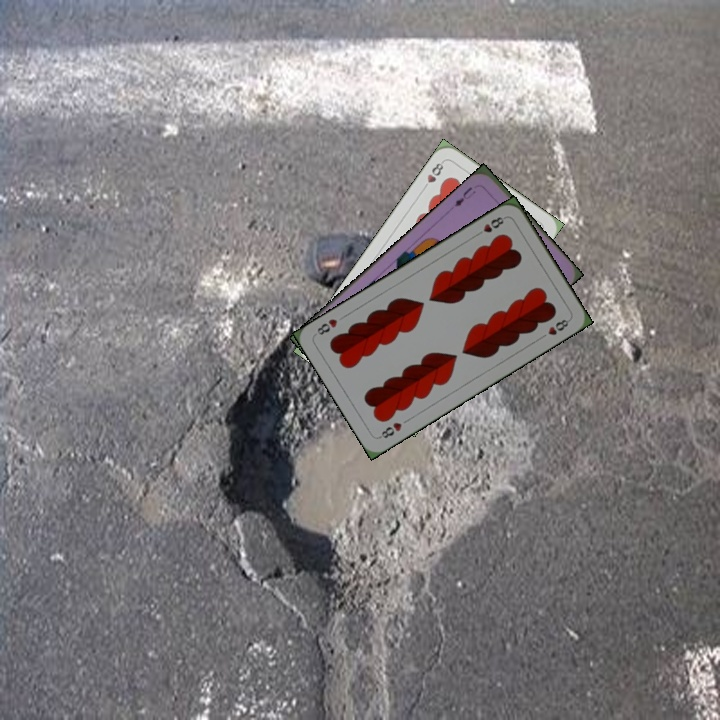EU: (450, 181, 481, 210)
H8: (419, 157, 447, 193), (472, 212, 508, 239), (375, 418, 405, 441)
